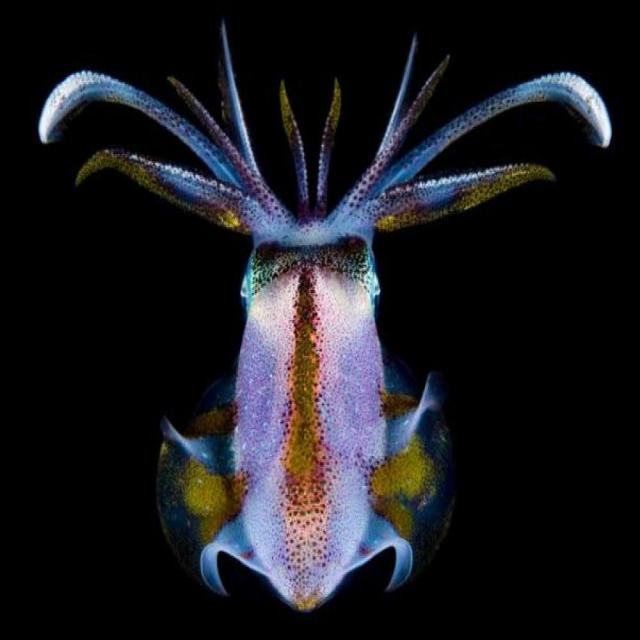squid: (40, 25, 610, 610)
